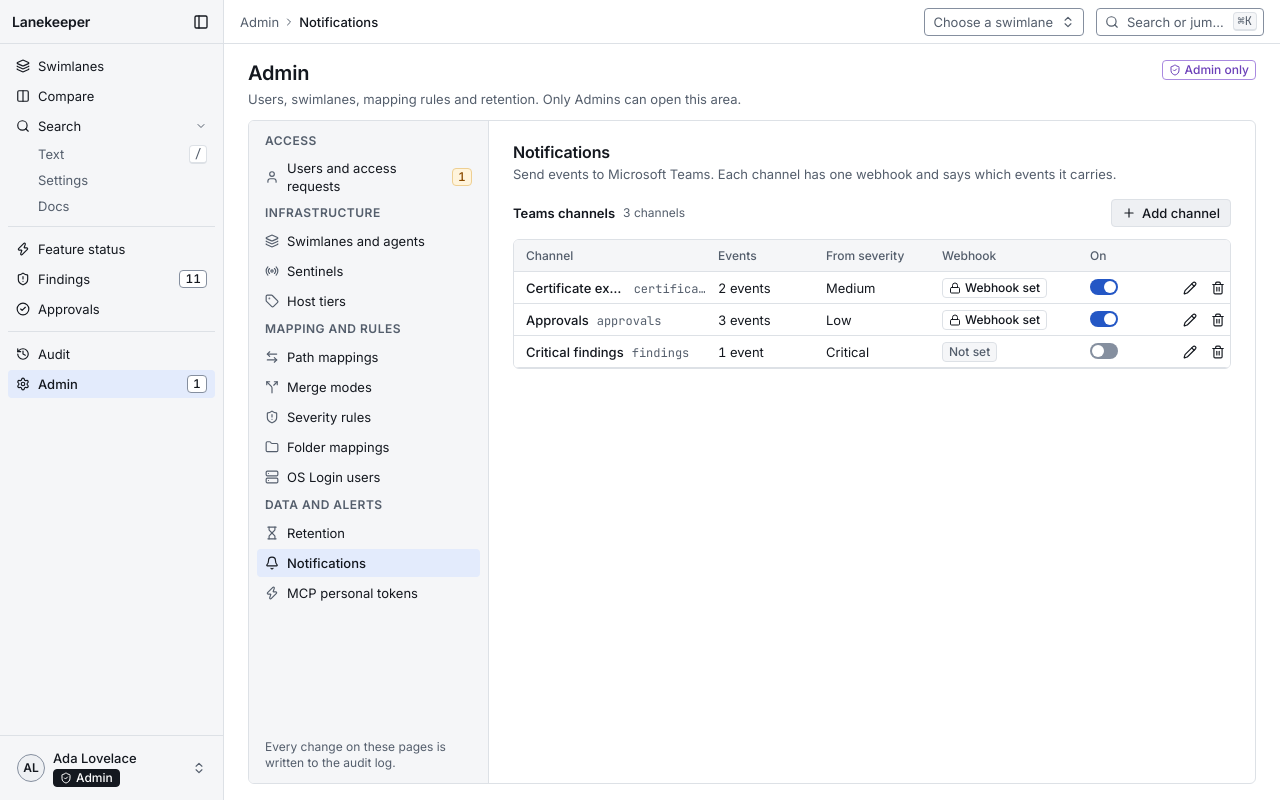
Scenario: the form › keeps the stored webhook when an existing channel is saved without a new address
This screenshot has width=1280, height=800.
Expected: the heading "Admin" is shown, left=248, top=61, right=309, bottom=85
Click the button named "Edit channel approvals" at x=1190, y=320, box left=1178, top=308, right=1202, bottom=332
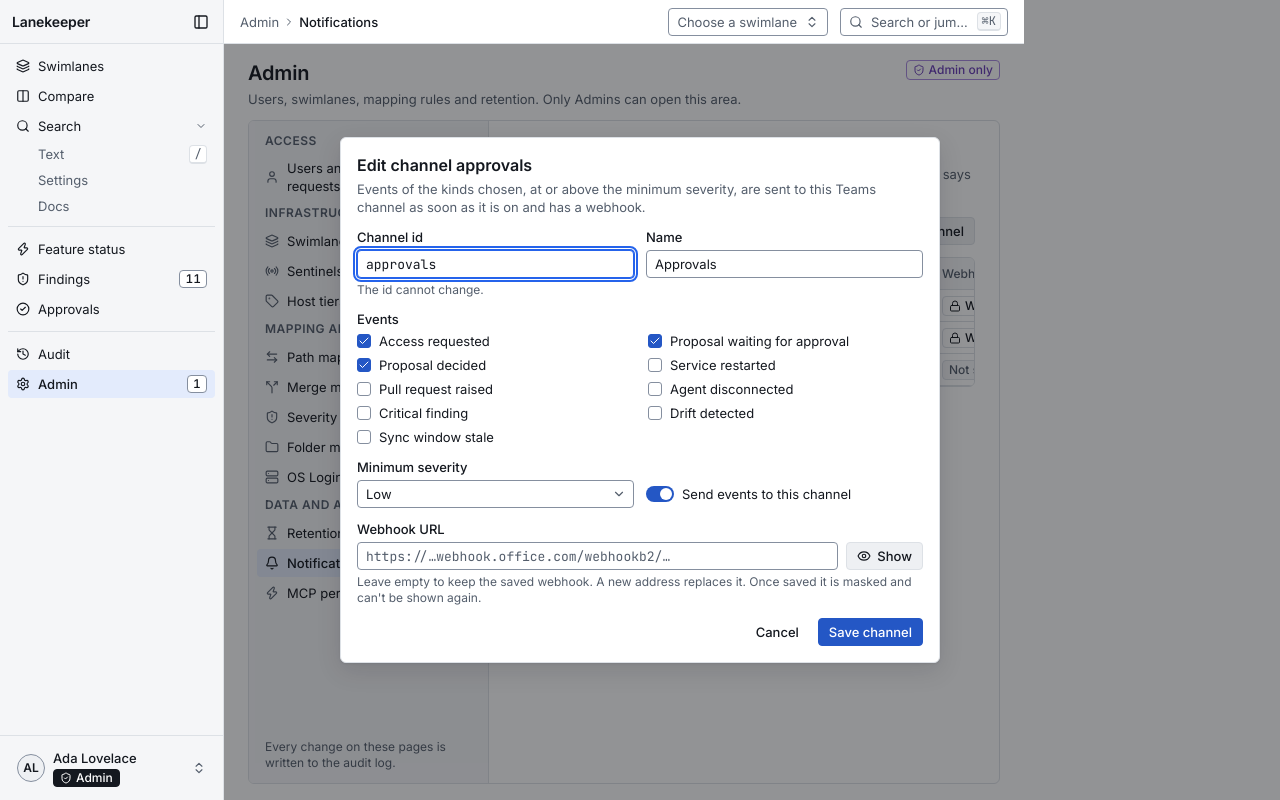
Expected: the field labelled "Name" holds "Approvals", left=646, top=250, right=923, bottom=278
Expected: the checkbox named "Proposal waiting for approval" next to "Proposal waiting for approval" is checked, left=648, top=334, right=662, bottom=348
Expected: the text "Leave empty to keep the saved webhook" is shown, left=357, top=574, right=912, bottom=605
Select "Critical" in the dropdown labelled "Minimum severity" at x=496, y=494, box left=357, top=480, right=634, bottom=508
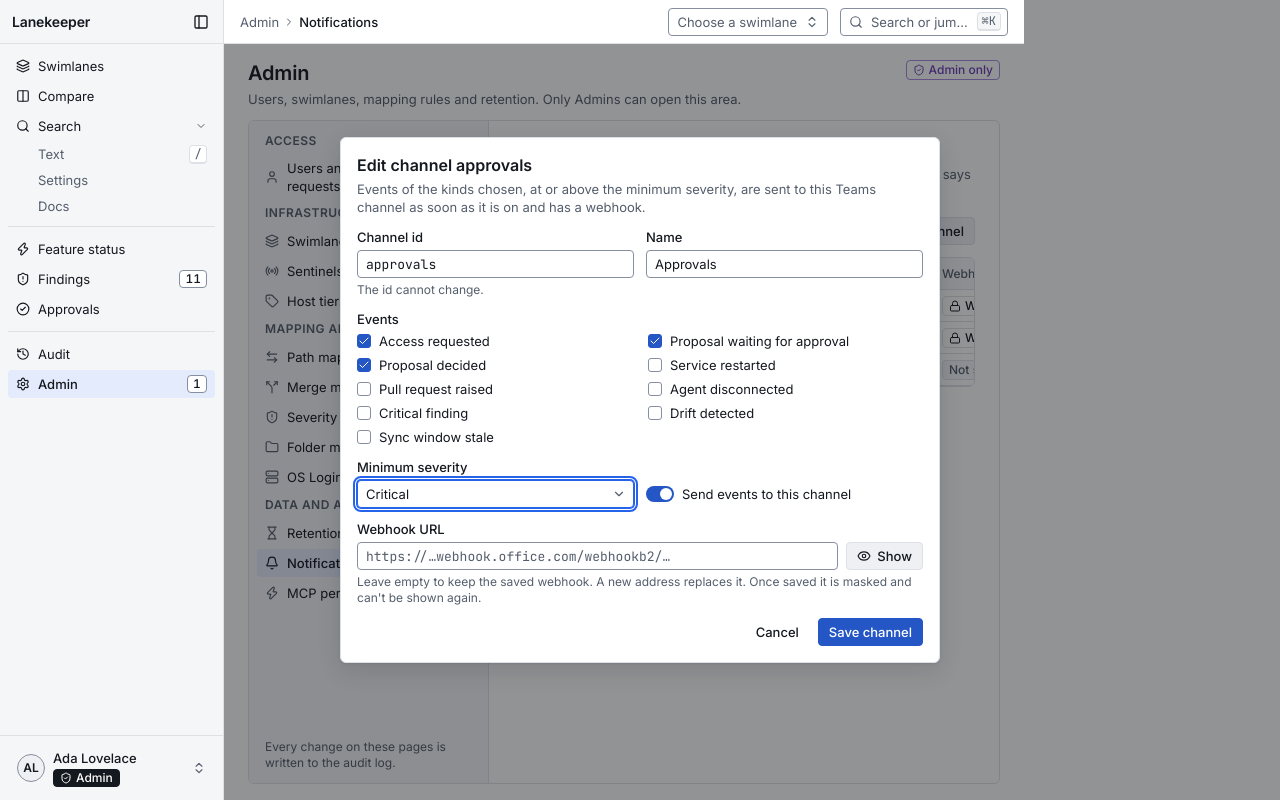
Click the button "Save channel" at x=870, y=632, box left=818, top=618, right=923, bottom=646
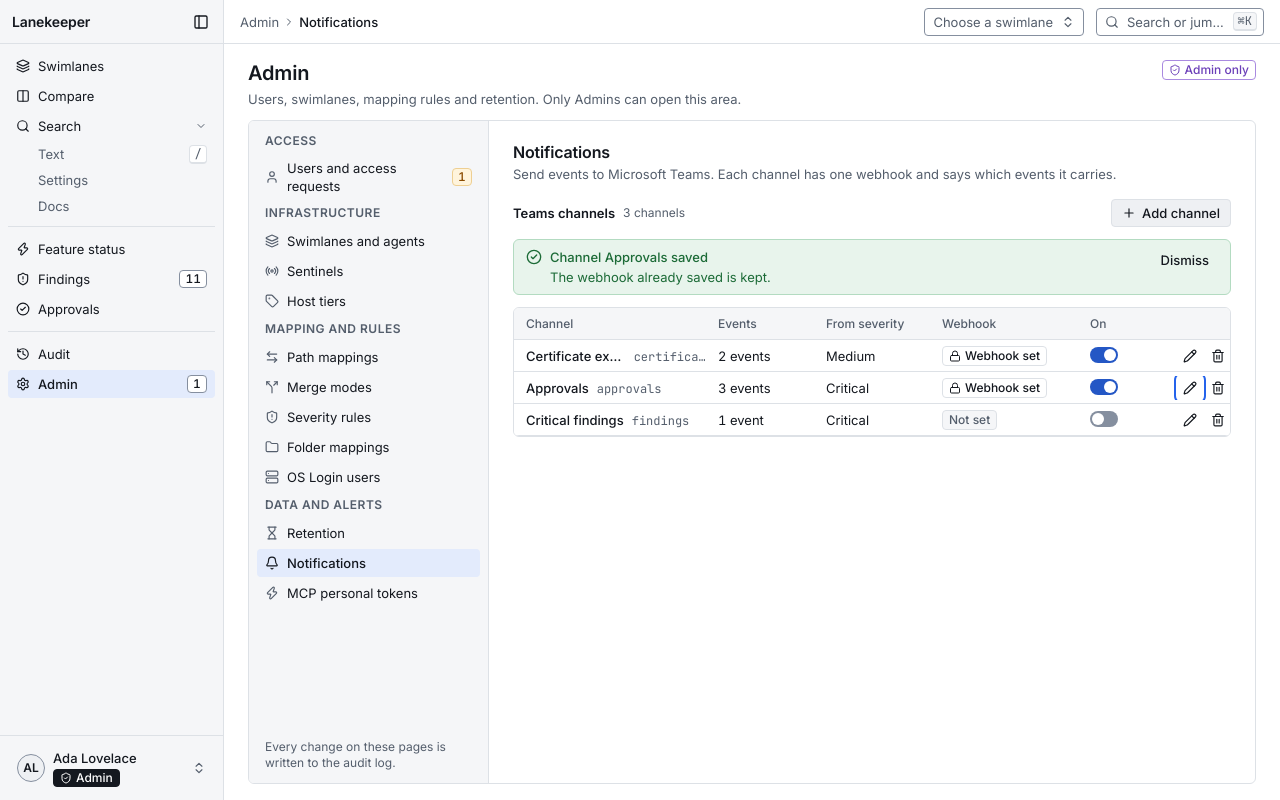
Expected: the 2nd text "Webhook set" is shown, left=942, top=378, right=1047, bottom=398
Expected: the dialog is gone
